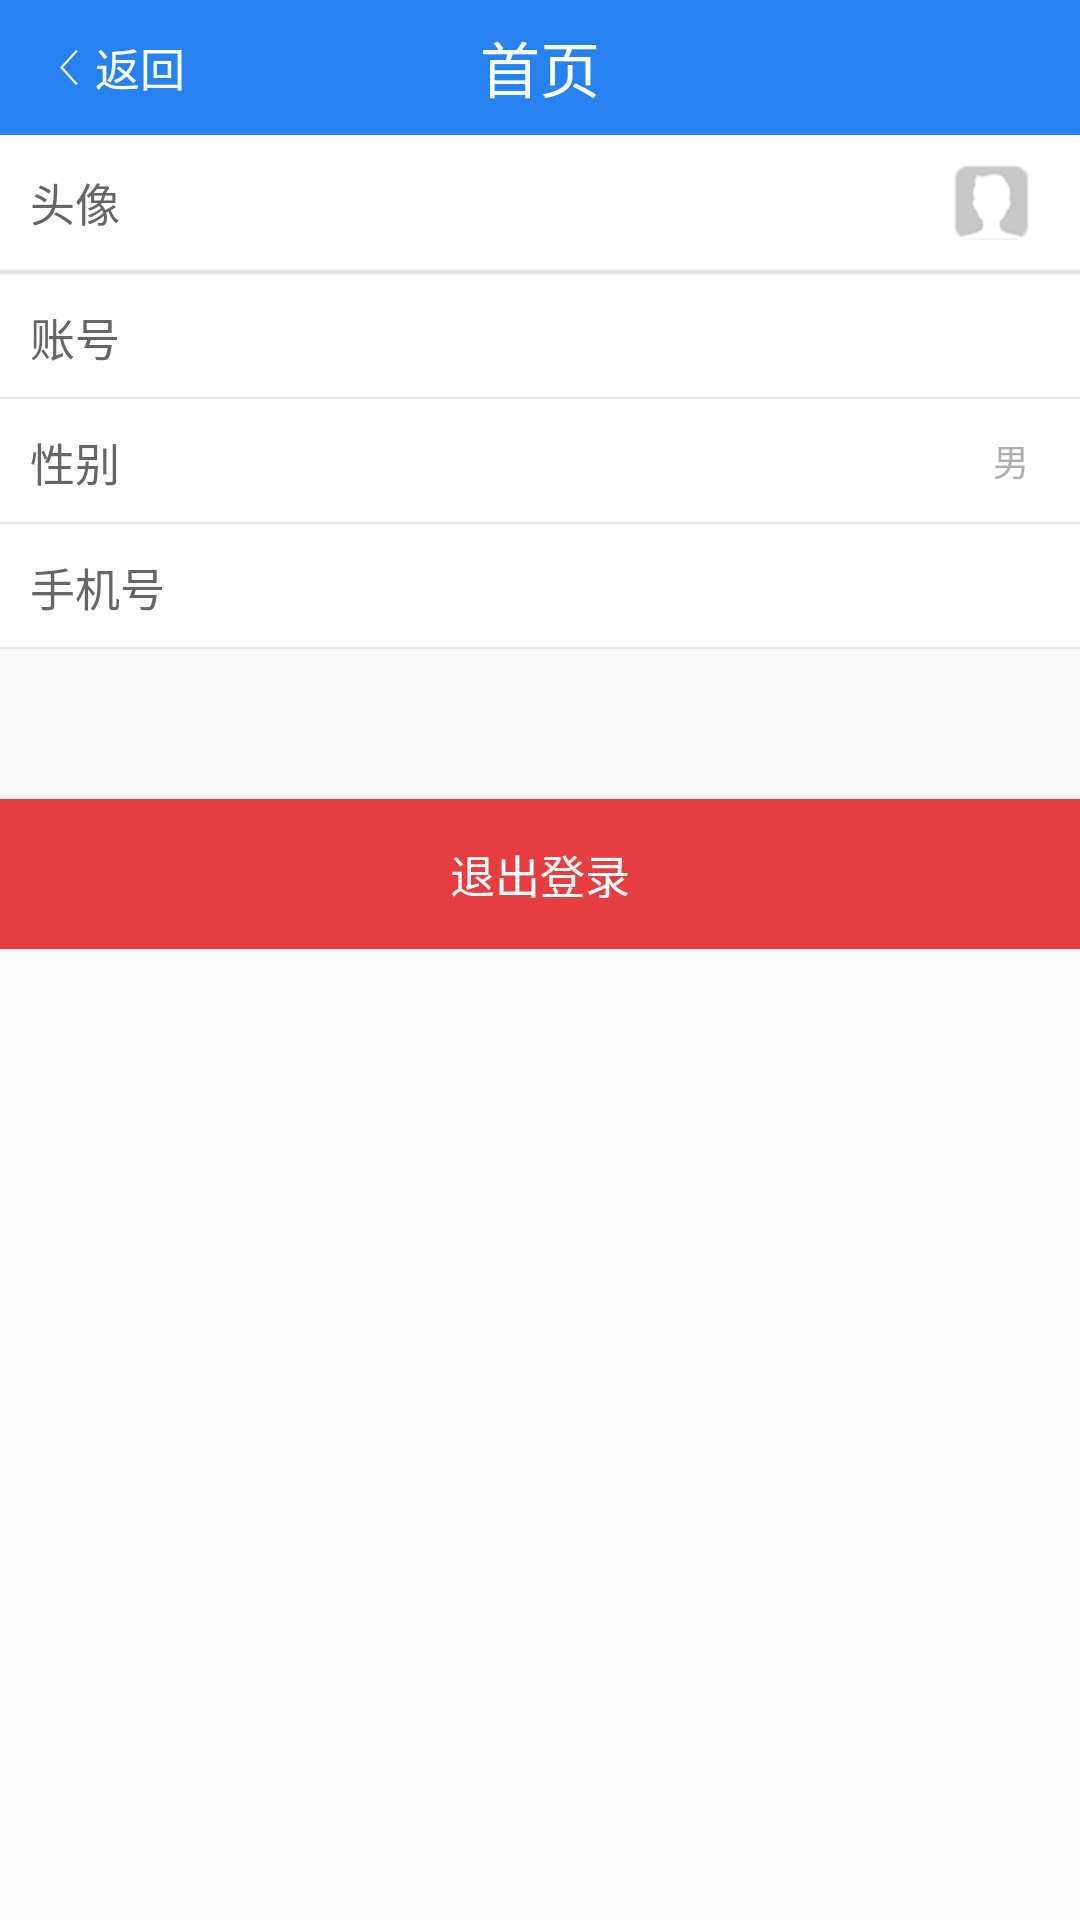

Named icons in this screenshot (1080 x 1920) and their bounding boxes, [left=x1, top=y1, right=x2, bottom=y2]:
defult nologin head: [left=955, top=166, right=1028, bottom=237]
